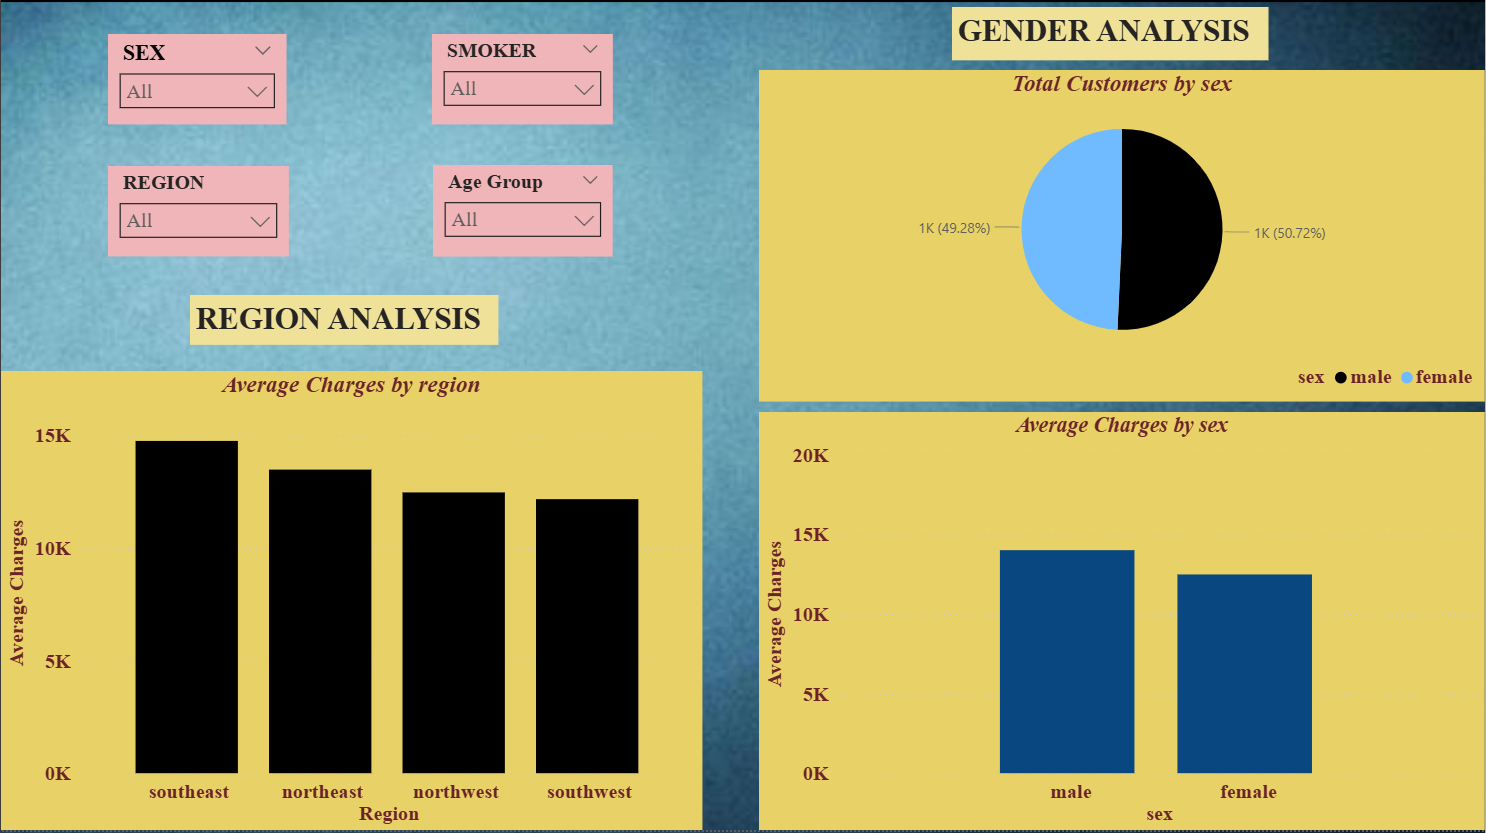

This screenshot's page, from the dashboard's own definition file:
{"tool":"powerbi","page":{"name":"Page 4","canvas":[1280,720],"ordinal":3},"visuals":[{"type":"textbox","box":[163,258.8,265.7,43.1],"z":0},{"type":"clusteredColumnChart","fields":{"Category":["medical_insurance.region"],"Y":["medical_insurance.Average Charges"]},"box":[0,324.3,604.6,395.9],"z":1},{"type":"pieChart","fields":{"Y":["medical_insurance.Total Customers"],"Category":["medical_insurance.sex"]},"box":[653.8,64.7,626.2,286.4],"z":2},{"type":"clusteredColumnChart","fields":{"Category":["medical_insurance.sex"],"Y":["medical_insurance.Average Charges"]},"box":[653.8,359.7,626.2,360.5],"z":3},{"type":"textbox","box":[820.3,10.4,272.6,45.7],"z":4},{"type":"slicer","fields":{"Values":["medical_insurance.sex"]},"box":[92.3,33.6,153.5,77.6],"z":5},{"type":"slicer","fields":{"Values":["medical_insurance.smoker"]},"box":[371.8,33.6,156.1,77.6],"z":6},{"type":"slicer","fields":{"Values":["medical_insurance.region"]},"box":[92.3,147.5,156.1,78.5],"z":7},{"type":"slicer","fields":{"Values":["medical_insurance.Age Group"]},"box":[372.6,146.6,155.3,79.4],"z":8}]}

Visuals, with their boxes in screenshot pixels (x1, y1, x2, y2), scaled from the page's 1280x720 canvas onto the 1486x833 screenshot:
textbox: box(189, 299, 498, 349)
clusteredColumnChart - medical_insurance.region x medical_insurance.Average Charges: box(0, 375, 702, 832)
pieChart - medical_insurance.Total Customers x medical_insurance.sex: box(759, 75, 1485, 406)
clusteredColumnChart - medical_insurance.sex x medical_insurance.Average Charges: box(759, 416, 1485, 832)
textbox: box(952, 12, 1269, 65)
slicer - medical_insurance.sex: box(107, 39, 285, 129)
slicer - medical_insurance.smoker: box(432, 39, 613, 129)
slicer - medical_insurance.region: box(107, 171, 288, 261)
slicer - medical_insurance.Age Group: box(433, 170, 613, 261)
